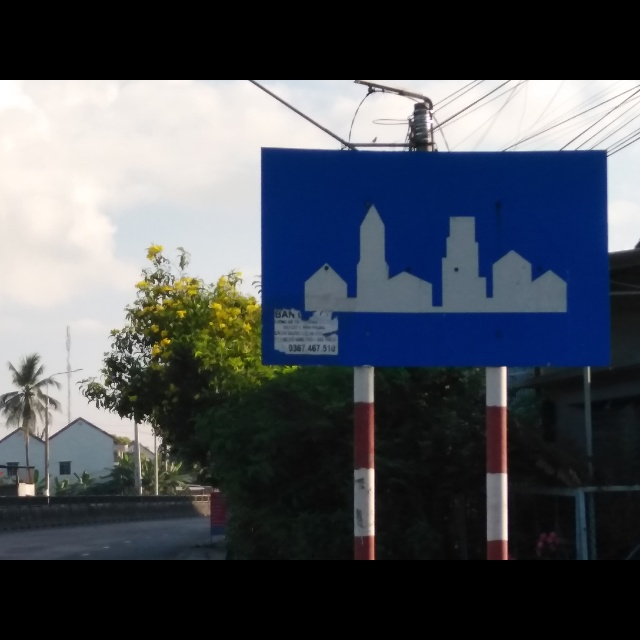Khu đông dân cư: (259, 144, 610, 365)
